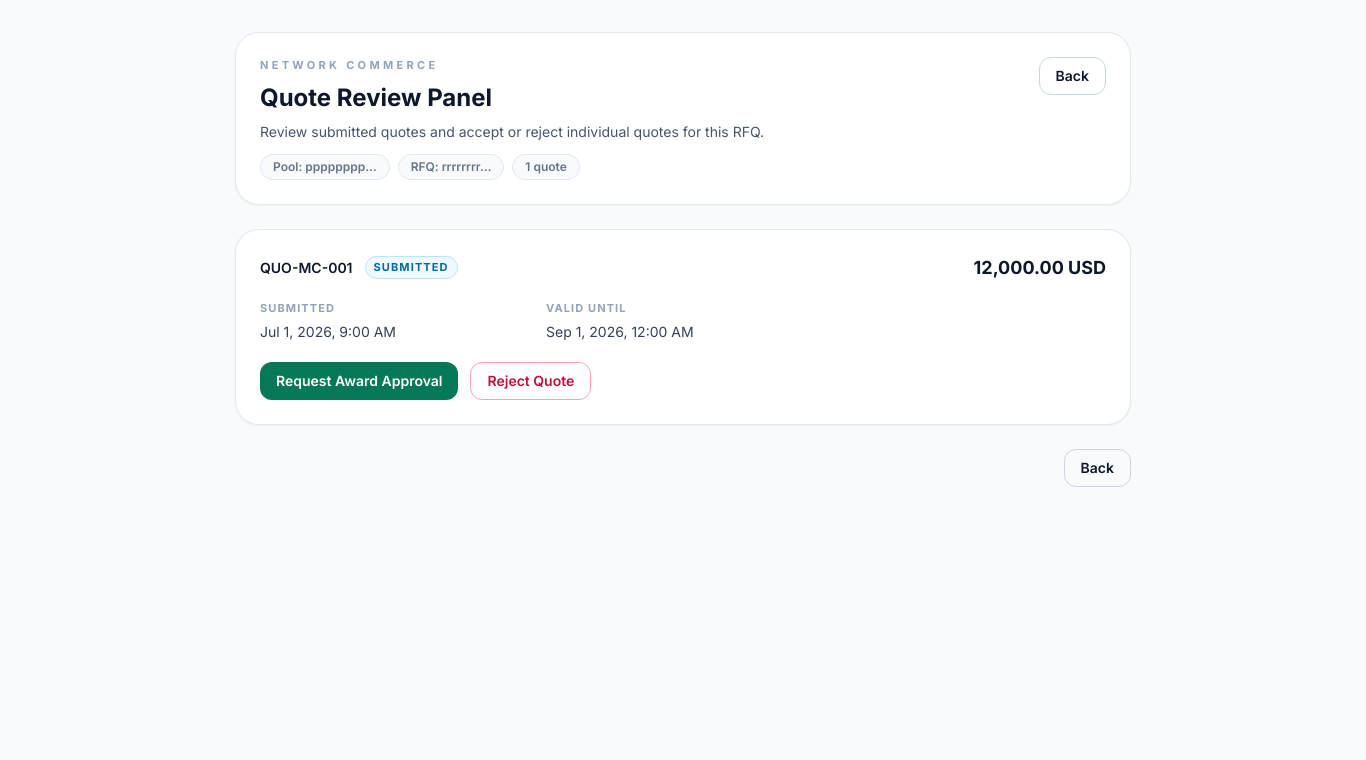
MC-FE-15: QUOTE_NO_LONGER_SUBMITTED error renders safe message › shows safe message when award request returns QUOTE_NO_LONGER_SUBMITTED
Click the button with aria-label "request award approval for quote quo-mc-001".
click(359, 380)  # box top-left (260, 362), bottom-right (458, 400)
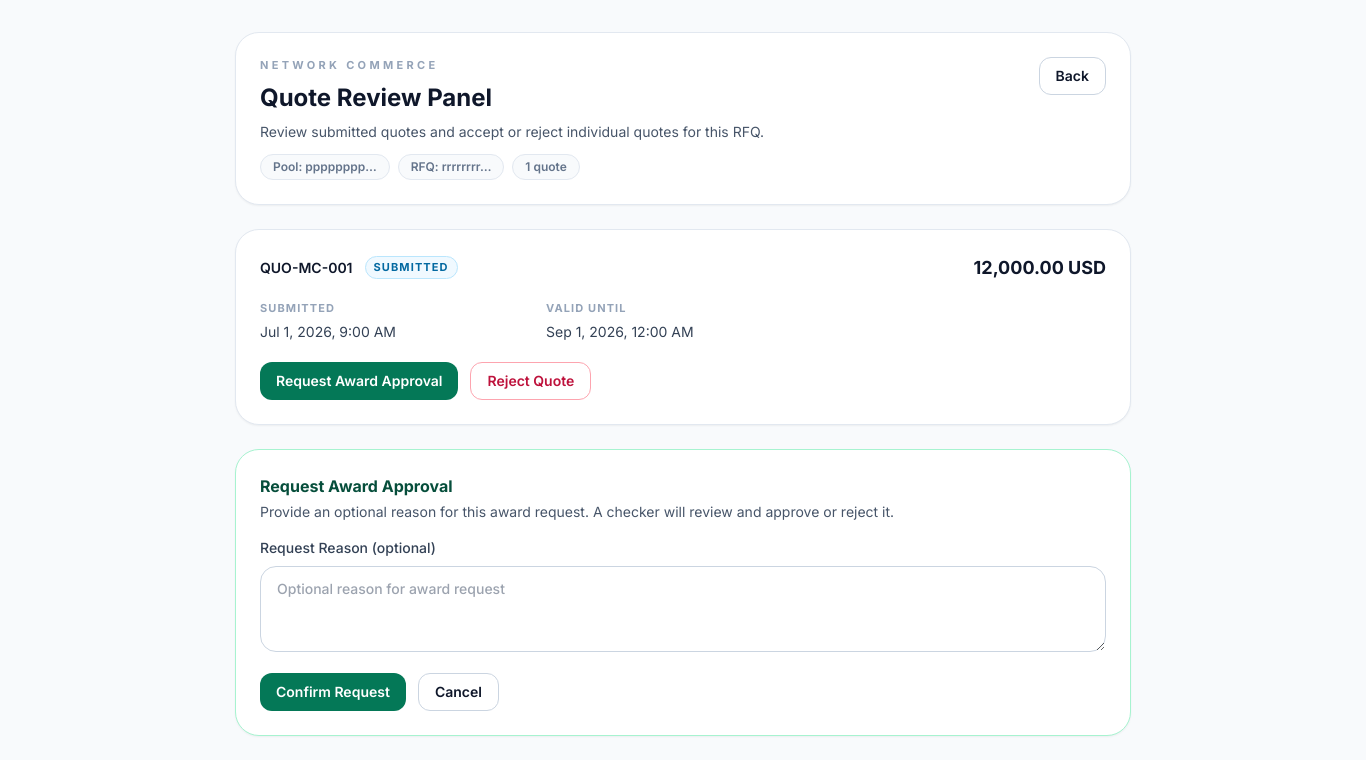
Click the button "Confirm Request".
click(333, 692)  # box top-left (260, 672), bottom-right (406, 710)
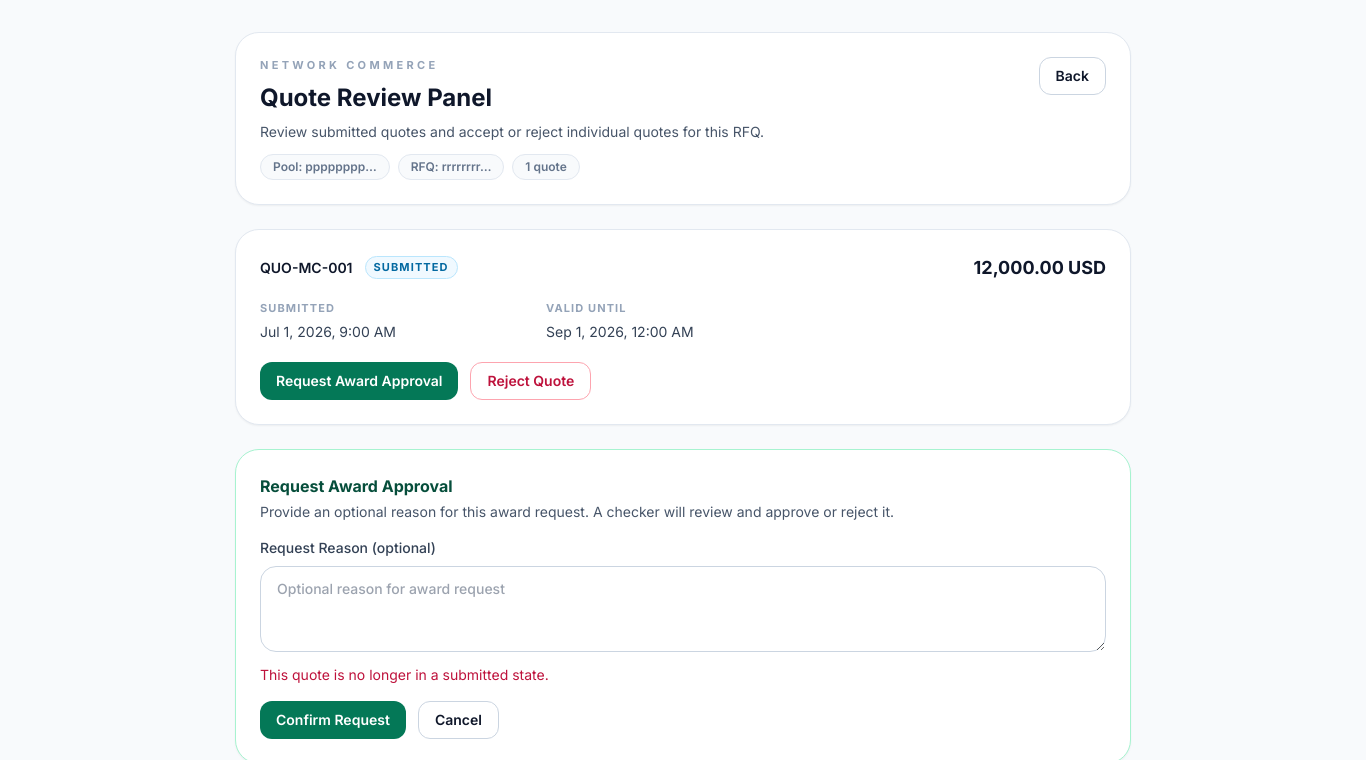
expect the text "This quote is no longer in a submitted state." is shown: met, box top-left (260, 666), bottom-right (549, 682)
